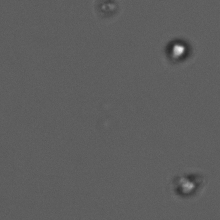Dead Cell: (94, 1, 122, 18)
Living Cell: (164, 36, 193, 65), (173, 169, 202, 198)
